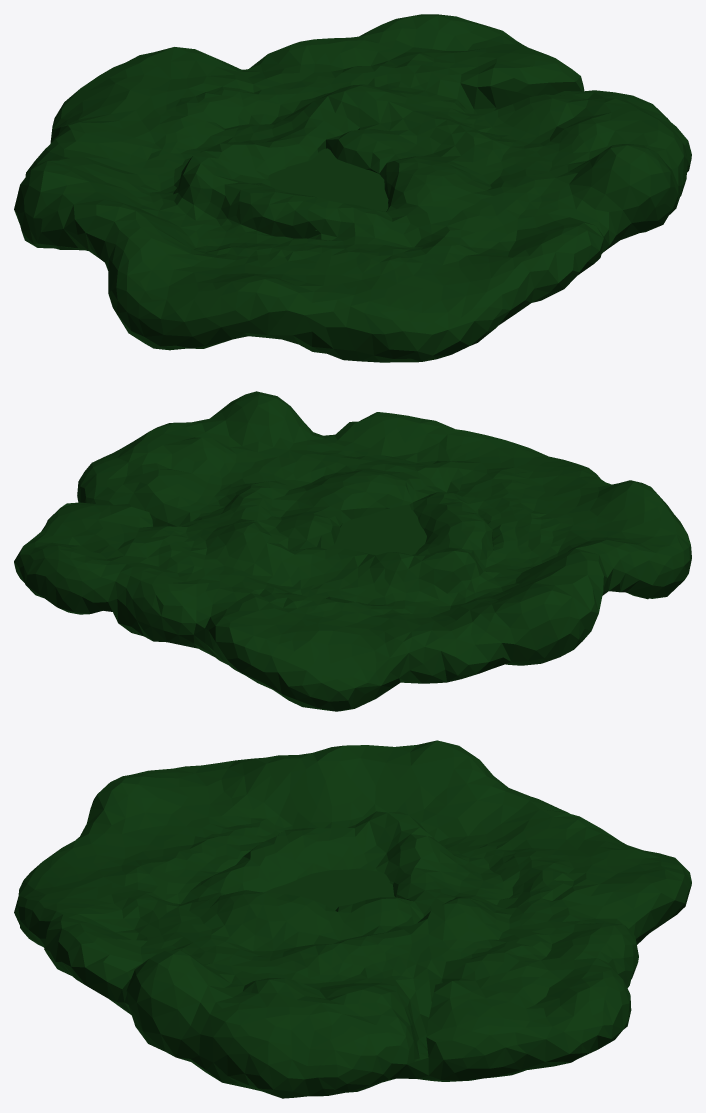
The model's file is İsland.obj.
3 views of the same model, one above another, from view 1: azimuth 30°, elevation 25°; view 2: azimuth 150°, elevation 25°; view 3: azimuth 270°, elevation 25° (orthographic). The views are drawn at different scales.
Visible parts, largest first — view 1: Sphere; view 2: Sphere; view 3: Sphere.
Boxes of the visible parts, bbox=[...] form: Sphere: bbox=[14, 14, 691, 362]; Sphere: bbox=[14, 391, 691, 711]; Sphere: bbox=[14, 740, 691, 1098].
Bounding box in the file's own units: 226 × 53.89 × 217.
